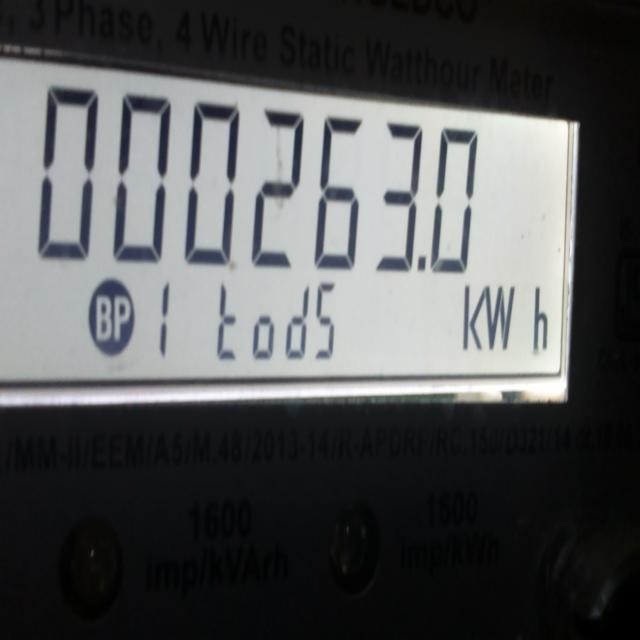.: (418, 252, 426, 274)
0: (38, 84, 92, 264), (112, 94, 168, 263), (185, 101, 237, 267), (432, 129, 477, 275)
2: (254, 110, 301, 269)
3: (382, 123, 419, 274)
6: (316, 115, 360, 272)
